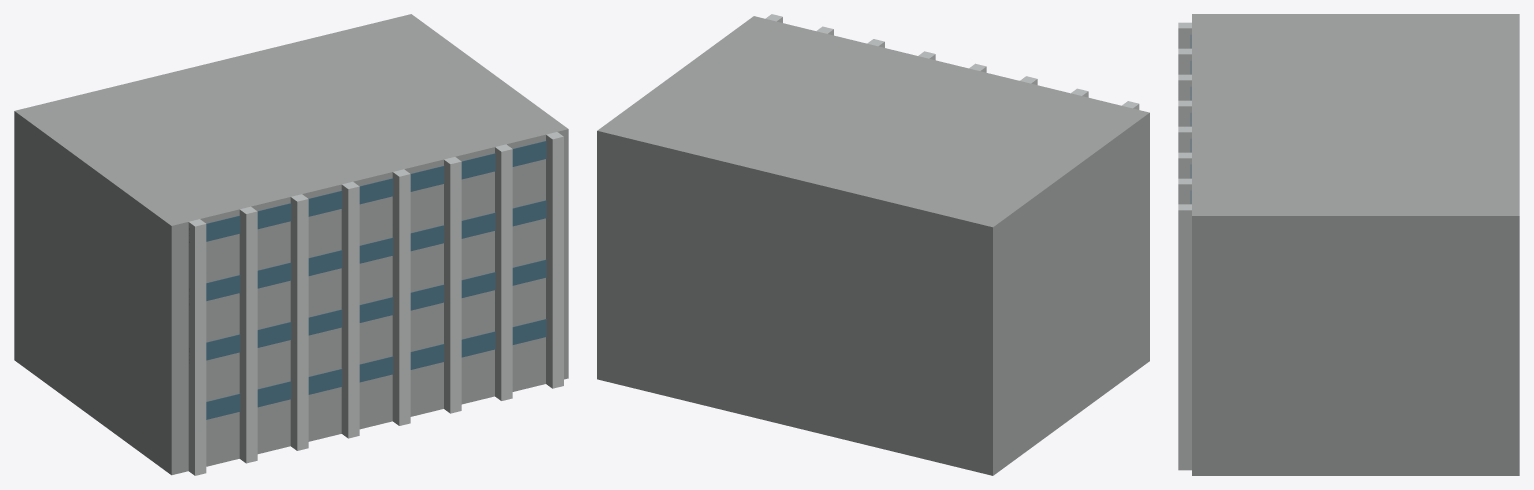
3 renders of one model, left to right at view 1: azimuth 30°, elevation 25°; view 2: azimuth 150°, elevation 25°; view 3: azimuth 270°, elevation 25°, orthographic. The views are drawn at different scales.
Parts seen in each view (by area): view 1: worldgen; view 2: worldgen; view 3: worldgen.
Boxes of the visible parts, bbox=[...] form: worldgen: bbox=[14, 14, 568, 475]; worldgen: bbox=[597, 14, 1149, 475]; worldgen: bbox=[1178, 14, 1519, 475].
Bounding box in the file's own units: 70 × 42 × 50.
